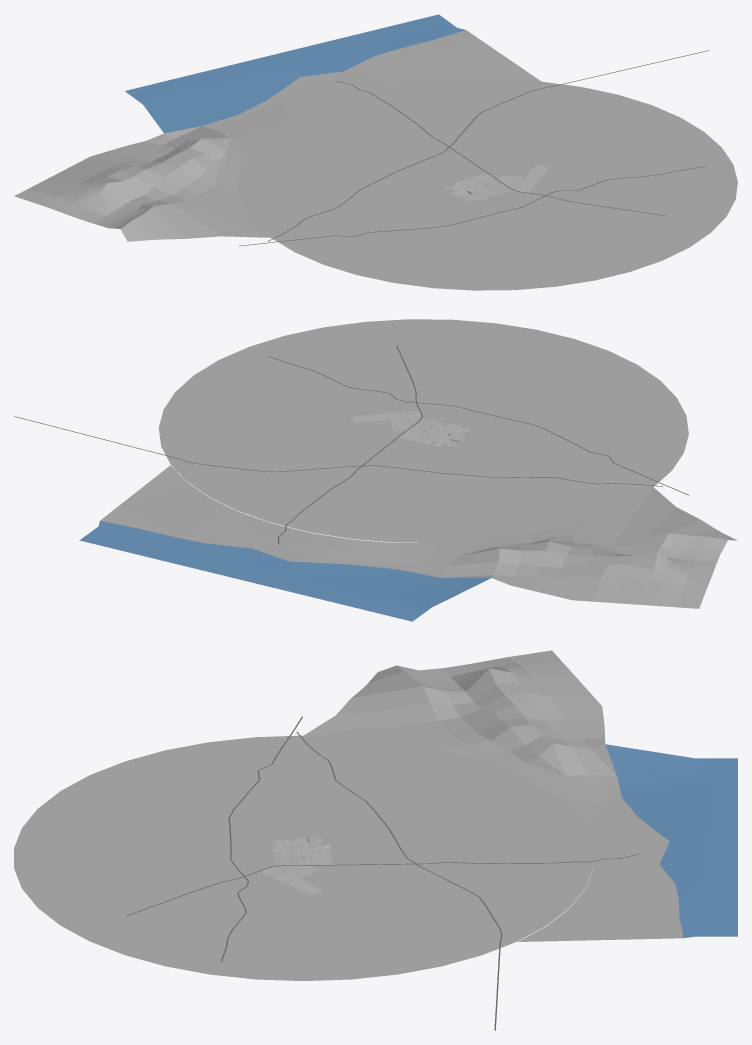
The picture shows the model from 3 angles, top to bottom: view 1: azimuth 30°, elevation 25°; view 2: azimuth 150°, elevation 25°; view 3: azimuth 270°, elevation 25°; orthographic projection. The views are drawn at different scales.
Visible parts, largest first — view 1: pDisc1, ocean, pCube43, polySurface173, fwy_405, fwy_5, fwy_55; view 2: pDisc1, ocean, pCube43, polySurface173, fwy_405, fwy_5; view 3: pDisc1, ocean, pCube43, polySurface173, fwy_405, fwy_55.
Boxes of the visible parts, x1,y1,x2,y2 form: pDisc1: (237, 79, 737, 290); ocean: (125, 14, 540, 152); pCube43: (14, 126, 270, 241); polySurface173: (443, 164, 550, 202); fwy_405: (267, 50, 708, 241); fwy_5: (238, 166, 705, 246); fwy_55: (336, 81, 665, 215); pDisc1: (158, 319, 688, 542); ocean: (79, 465, 490, 621); pCube43: (440, 487, 737, 608); polySurface173: (351, 411, 470, 446); fwy_405: (14, 416, 662, 486); fwy_5: (267, 356, 689, 495); pDisc1: (14, 735, 593, 981); ocean: (518, 744, 737, 941); pCube43: (304, 650, 616, 776); polySurface173: (261, 836, 331, 895); fwy_405: (296, 732, 502, 1030); fwy_55: (126, 854, 638, 915).
Size of the model in its own units: 12132 by 341 by 9762.
